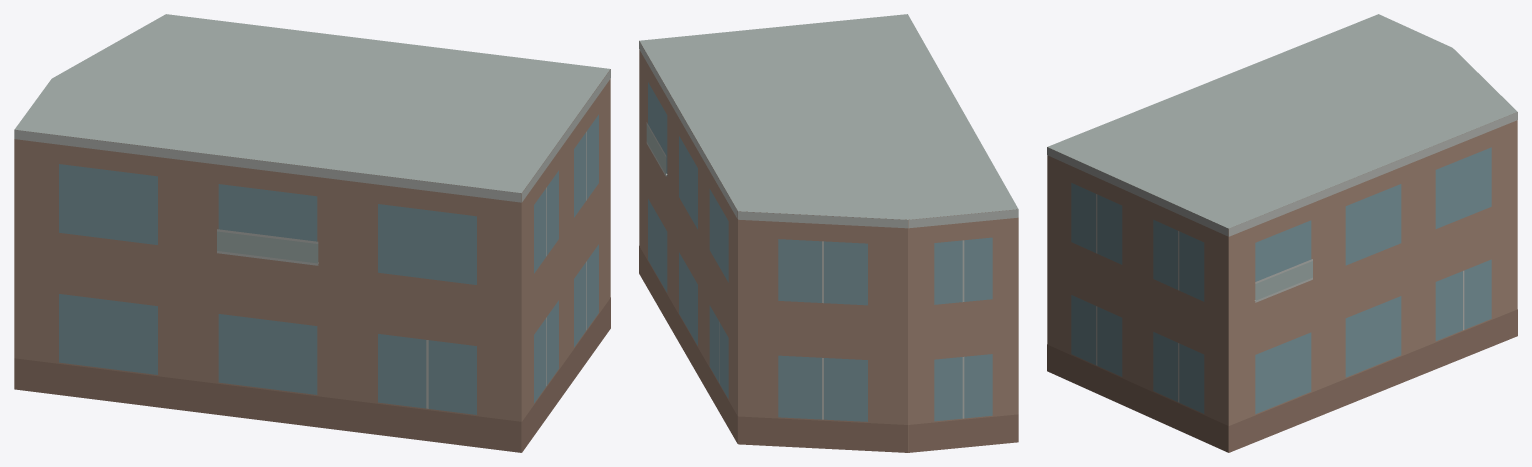
File: survey-upis-32684630.glb
3 views of the same model, side by side, from view 1: azimuth 30°, elevation 25°; view 2: azimuth 150°, elevation 25°; view 3: azimuth 270°, elevation 25° (orthographic). The views are drawn at different scales.
Parts seen in each view (by area): view 1: survey-upis-32684630.tmp; view 2: survey-upis-32684630.tmp; view 3: survey-upis-32684630.tmp.
Boxes of the visible parts, bbox=[...] form: survey-upis-32684630.tmp: bbox=[14, 14, 610, 452]; survey-upis-32684630.tmp: bbox=[639, 14, 1018, 452]; survey-upis-32684630.tmp: bbox=[1047, 14, 1517, 452].
Size of the model in its own units: 13.77 by 6.7 by 12.76.
